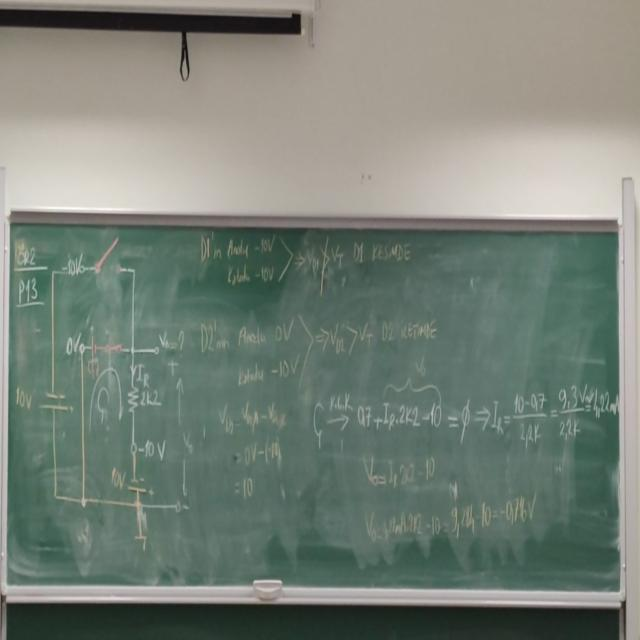image: (45, 232, 195, 552)
math: (229, 314, 441, 386), (202, 226, 414, 294), (356, 387, 617, 442), (213, 388, 295, 517), (360, 499, 540, 539), (360, 453, 440, 490)
